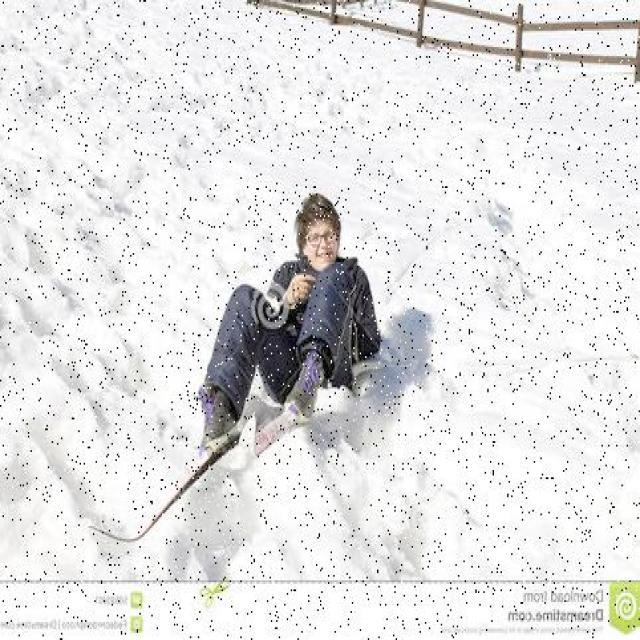fall: (192, 192, 372, 458)
